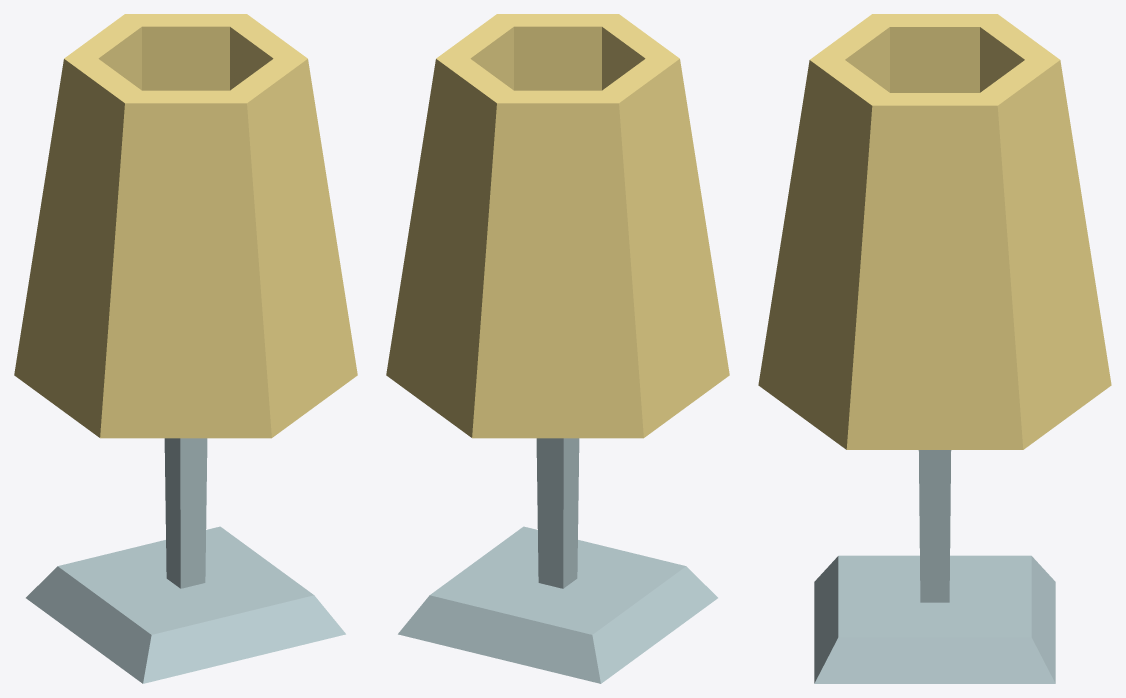
Rendered from Lamp Round Table.glb.
3 renders of one model, left to right at view 1: azimuth 30°, elevation 25°; view 2: azimuth 150°, elevation 25°; view 3: azimuth 270°, elevation 25°, orthographic. The views are drawn at different scales.
Visible parts, largest first — view 1: lampRoundTable(Clone); view 2: lampRoundTable(Clone); view 3: lampRoundTable(Clone).
Part boxes in pixels (x1,y1,x2,y2): lampRoundTable(Clone): (14,14,357,683); lampRoundTable(Clone): (386,14,729,683); lampRoundTable(Clone): (758,14,1111,683).
Size of the model in its own units: 0.152 by 0.3142 by 0.1756.
